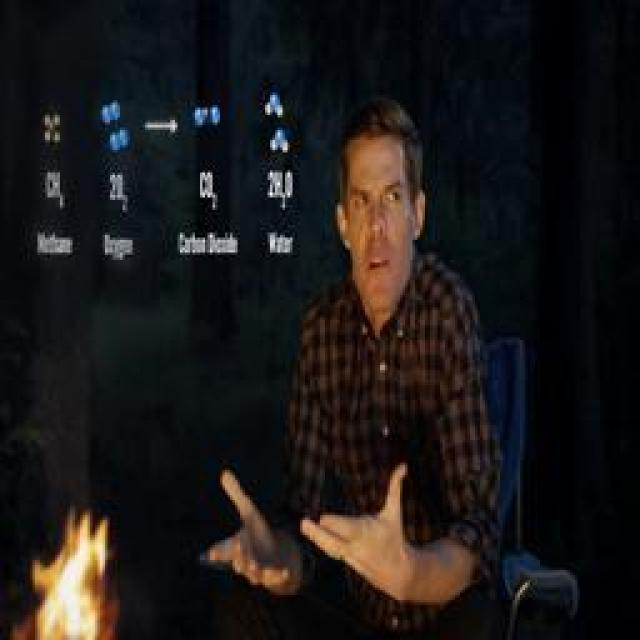Fire: (29, 512, 109, 640)
